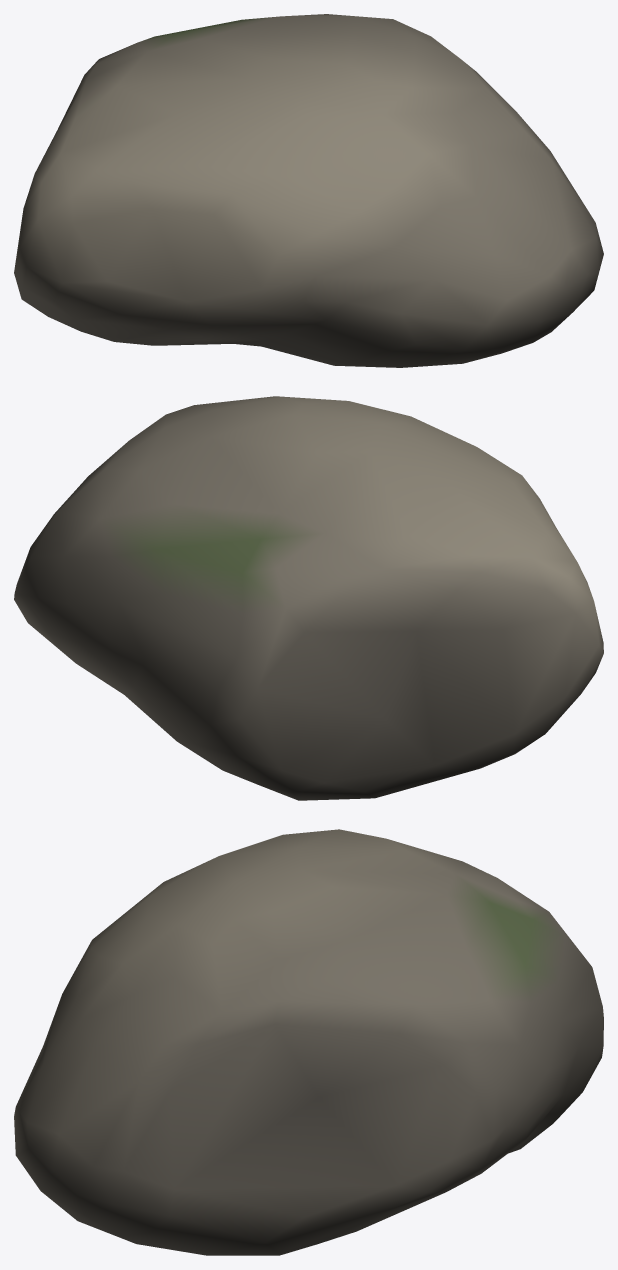
File: boulder_b.glb
3 renders of one model, top to bottom at view 1: azimuth 30°, elevation 25°; view 2: azimuth 150°, elevation 25°; view 3: azimuth 270°, elevation 25°, orthographic. The views are drawn at different scales.
Parts seen in each view (by area): view 1: boulder_b; view 2: boulder_b; view 3: boulder_b.
Part boxes in pixels (left/top/right/bottom): boulder_b: left=14, top=14, right=603, bottom=367; boulder_b: left=14, top=396, right=603, bottom=800; boulder_b: left=14, top=829, right=603, bottom=1255.
Size of the model in its own units: 1.21 by 0.6004 by 1.13.
